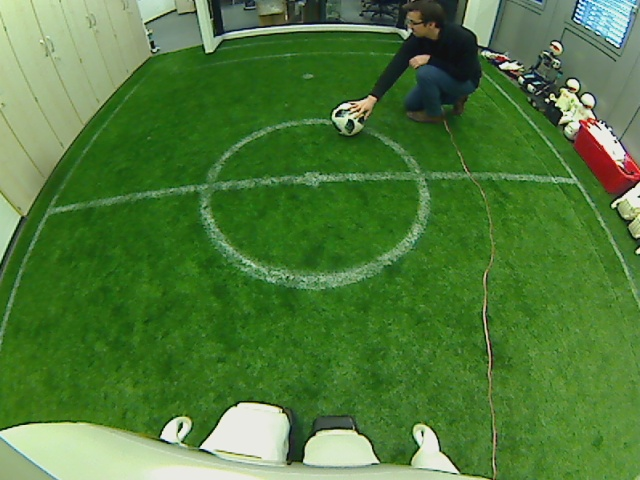ball: (330, 102, 364, 134)
